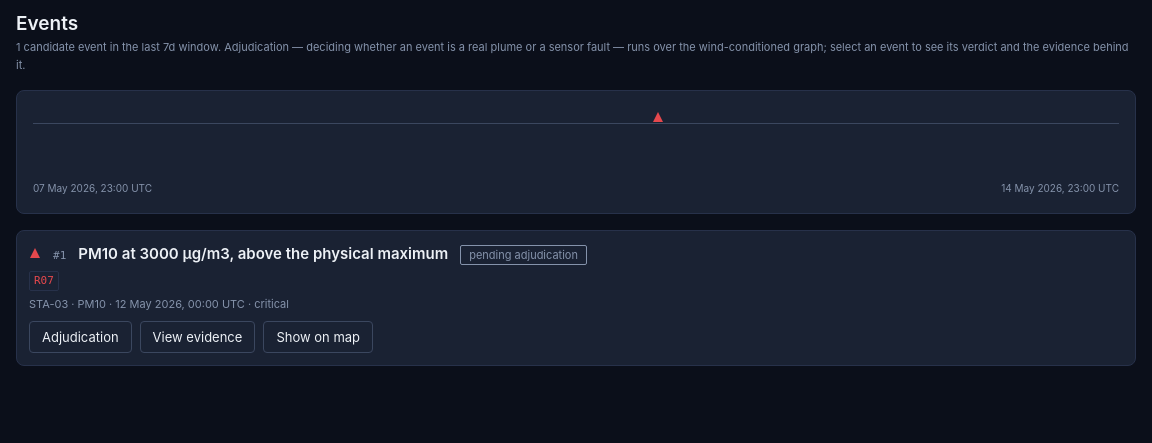
Test: adjudication on the timeline › shows a pending note for an unadjudicated event
Step 1. Click the button with test id "event-adjudication-toggle" → click(80, 337), box 29,321 -> 132,353
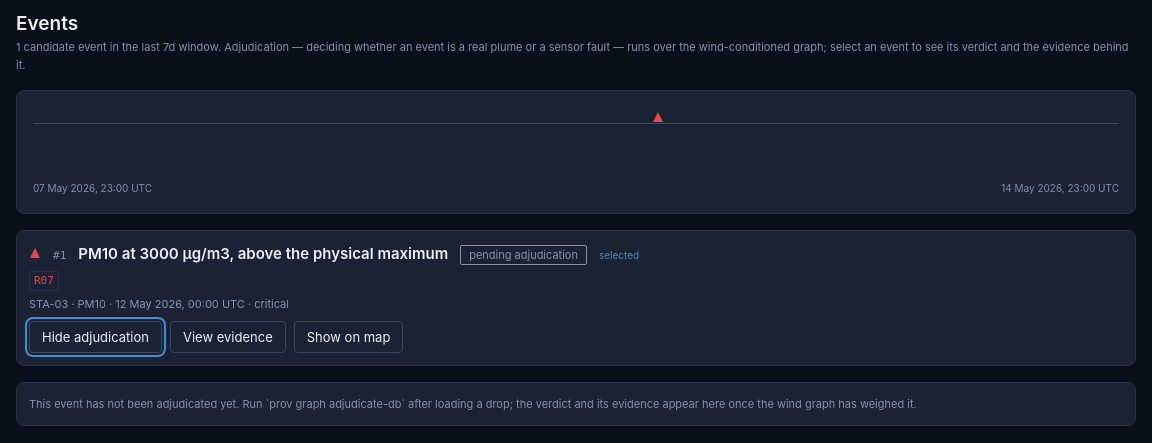
Now the text with test id "adjudication-pending" is shown, box 16,382 -> 1136,426
